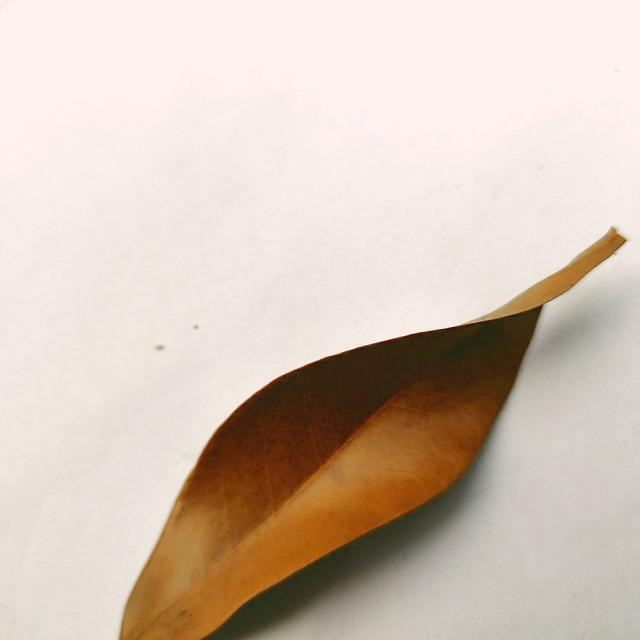Dry_Leaf-Lychee: (118, 229, 627, 639)
